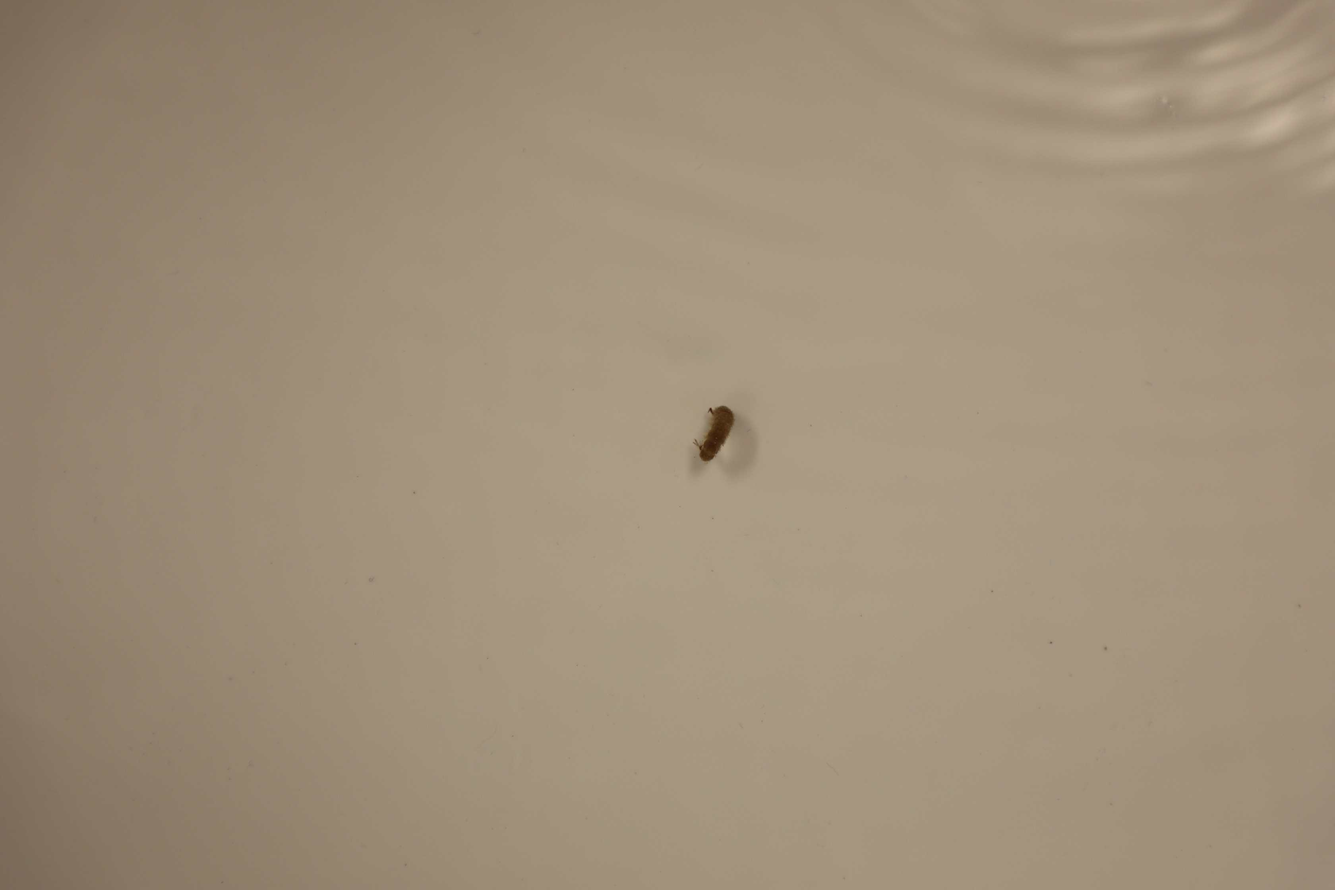Cadisfly: (689, 400, 736, 462)
